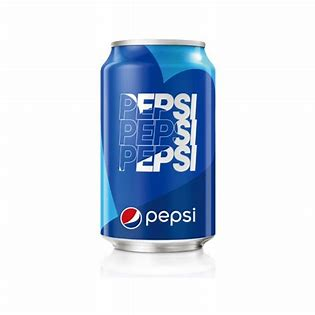Pepsi: (97, 36, 219, 259)
